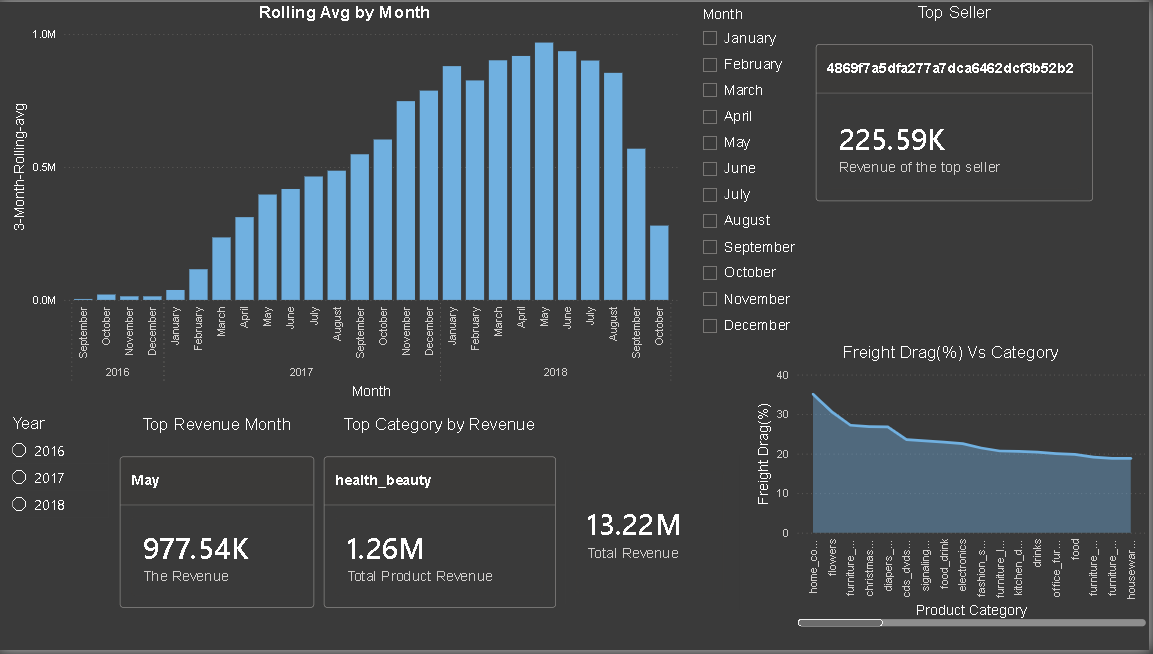

This screenshot's page, from the dashboard's own definition file:
{"tool":"powerbi","page":{"name":"Page 2","canvas":[1280,720],"ordinal":1},"visuals":[{"type":"clusteredColumnChart","title":"Rolling Avg by Month","fields":{"Category":["olist7.calender_month.Variation.Date Hierarchy.Year","olist7.calender_month.Variation.Date Hierarchy.Month"],"Y":["Sum(olist7.rolling_avg)"]},"box":[10,0,750,446.7],"z":0},{"type":"listSlicer","fields":{"Values":["olist7.calender_month.Variation.Date Hierarchy.Year"]},"box":[10,456.7,118.3,133.3],"z":1000},{"type":"cardVisual","title":"Top Revenue Month","fields":{"Data":["olist7.MaxRevenue in a Month"],"Rows":["olist7.calender_month.Variation.Date Hierarchy.Month"]},"box":[130,458.3,226.7,240],"z":2000},{"type":"cardVisual","fields":{"Data":["Sum(olist7.month_revenue)"]},"box":[625,503.3,198.3,171.7],"z":2001},{"type":"slicer","fields":{"Values":["olist7.calender_month.Variation.Date Hierarchy.Month"]},"box":[770,0,133.3,378.3],"z":2002},{"type":"stackedAreaChart","title":"Freight Drag(%) Vs Category","fields":{"Category":["olist5.product_category_name_english"],"Y":["Sum(olist5.freight_drag_percentage)"]},"box":[836.7,378.3,443.3,320],"z":2003},{"type":"cardVisual","title":"Top Seller","fields":{"Rows":["olist2.seller_id"],"Data":["Sum(olist2.total_revenue)"]},"box":[903.3,0,318.3,246.7],"z":2004},{"type":"cardVisual","title":"Top Category by Revenue","fields":{"Rows":["olist5.product_category_name_english"],"Data":["Sum(olist5.total_product_revenue)"]},"box":[357,458,268,240],"z":2005}]}

Visuals, with their boxes in screenshot pixels (x1, y1, x2, y2), scaled from the page's 1280x720 canvas onto the 1153x654 screenshot:
"Rolling Avg by Month" clusteredColumnChart: box(9, 0, 685, 406)
listSlicer - olist7.calender_month.Variation.Date Hierarchy.Year: box(9, 415, 116, 536)
"Top Revenue Month" cardVisual: box(117, 416, 321, 634)
cardVisual - Sum(olist7.month_revenue): box(563, 457, 742, 613)
slicer - olist7.calender_month.Variation.Date Hierarchy.Month: box(694, 0, 814, 344)
"Freight Drag(%) Vs Category" stackedAreaChart: box(754, 344, 1152, 634)
"Top Seller" cardVisual: box(814, 0, 1100, 224)
"Top Category by Revenue" cardVisual: box(322, 416, 563, 634)
